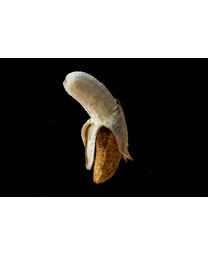banana: (62, 70, 133, 172)
